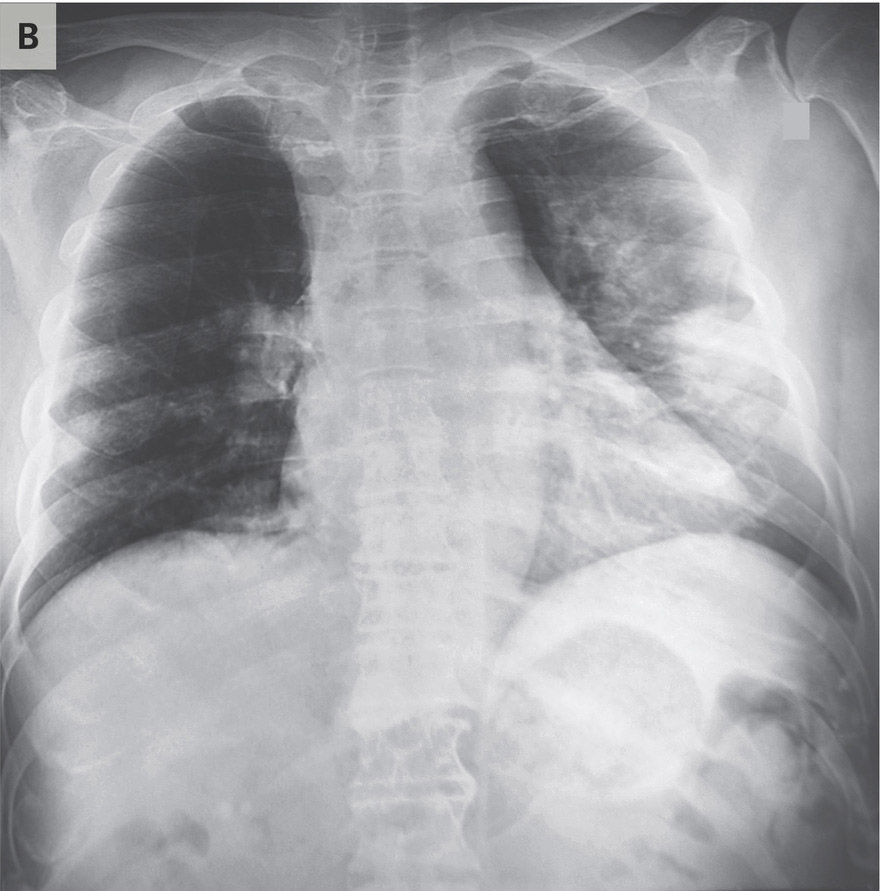Severe: (451, 68, 854, 604), (18, 69, 319, 617)
